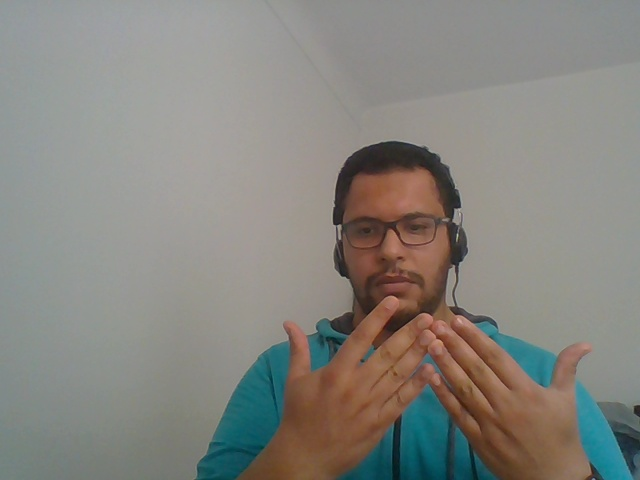thanks: (247, 279, 613, 477)
